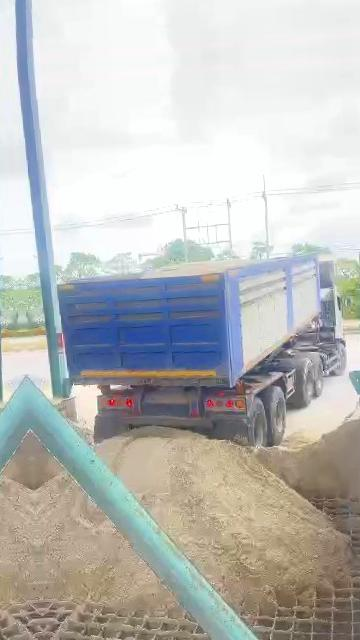sand: (98, 430, 351, 610), (34, 474, 172, 608), (256, 417, 360, 500), (143, 258, 253, 278), (29, 430, 61, 489), (70, 421, 92, 446)
